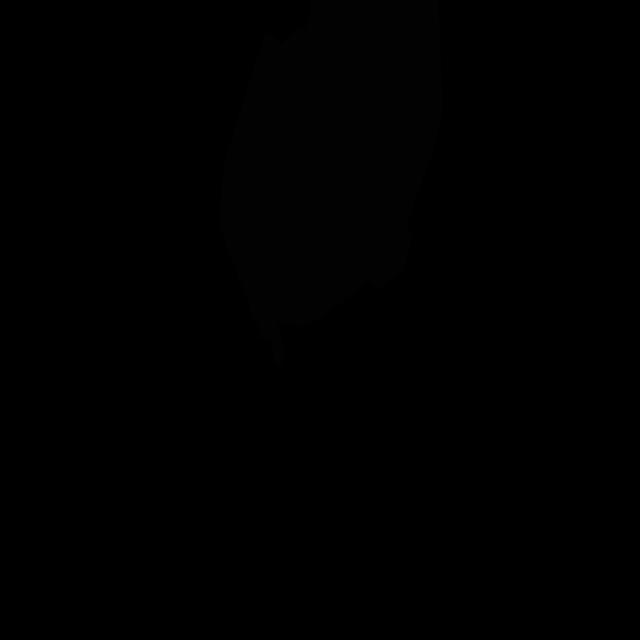cardboard: (219, 0, 443, 365)
